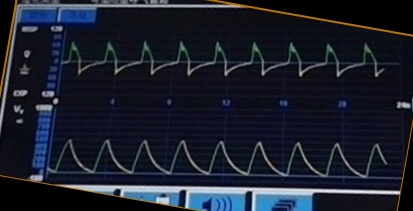Accumulation Flow: (64, 36, 400, 89)
Volume: (49, 132, 396, 183)
